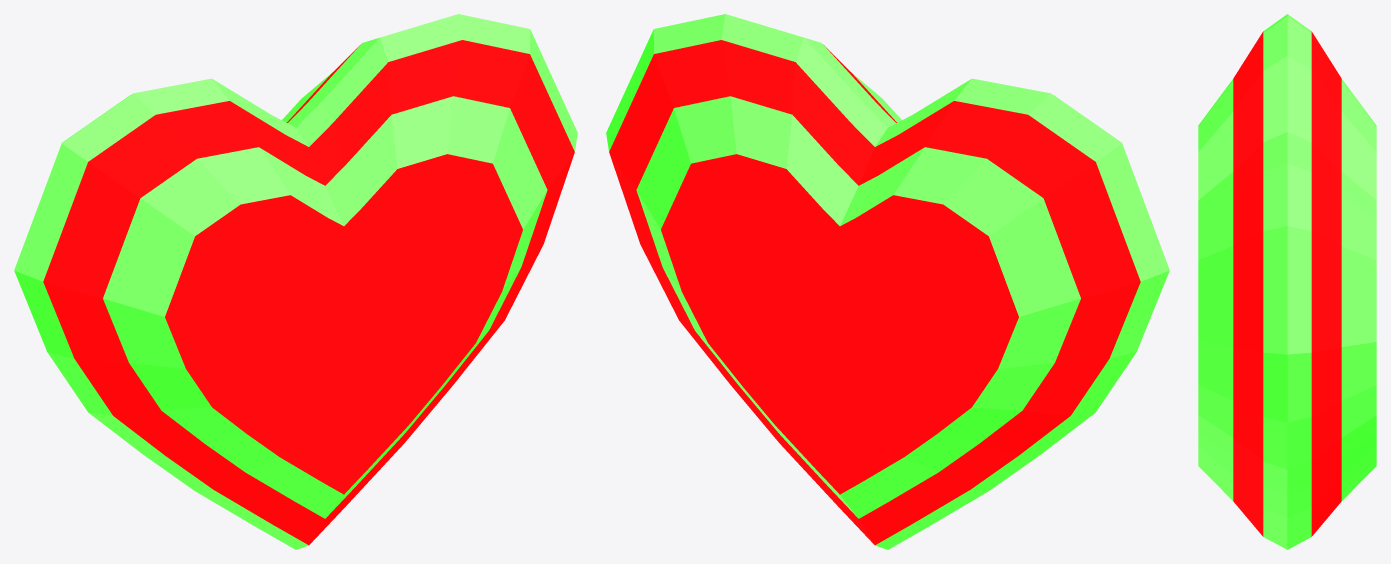
The model's file is Heart.fbx.
The picture shows the model from 3 angles, left to right: view 1: azimuth 30°, elevation 25°; view 2: azimuth 150°, elevation 25°; view 3: azimuth 270°, elevation 25°; orthographic projection. The views are drawn at different scales.
Parts seen in each view (by area): view 1: Cube; view 2: Cube; view 3: Cube.
Part boxes in pixels (x1,y1,x2,y2): Cube: (14,14,577,549); Cube: (606,14,1169,549); Cube: (1198,14,1376,549).
Size of the model in its own units: 226 by 190 by 66.63.
